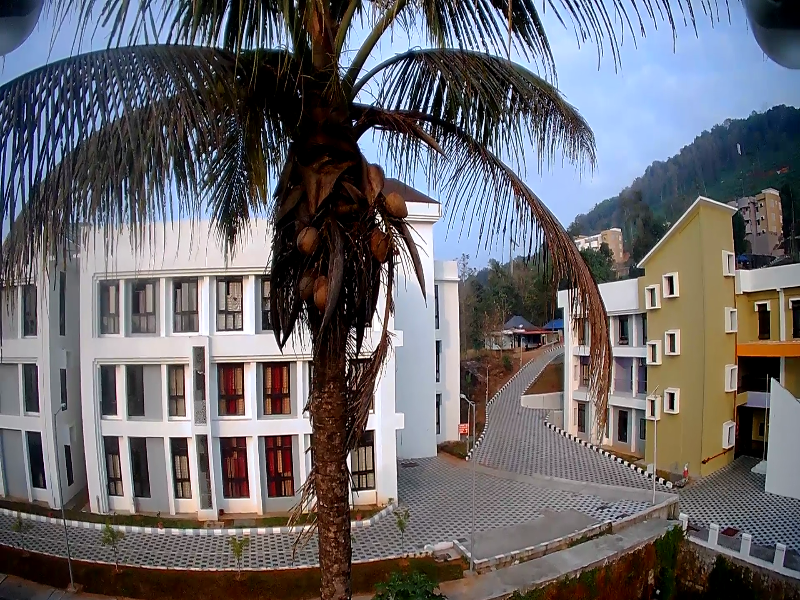coconut: (310, 266, 332, 310), (383, 188, 409, 219), (292, 224, 317, 253), (369, 223, 388, 259), (296, 273, 312, 294)
